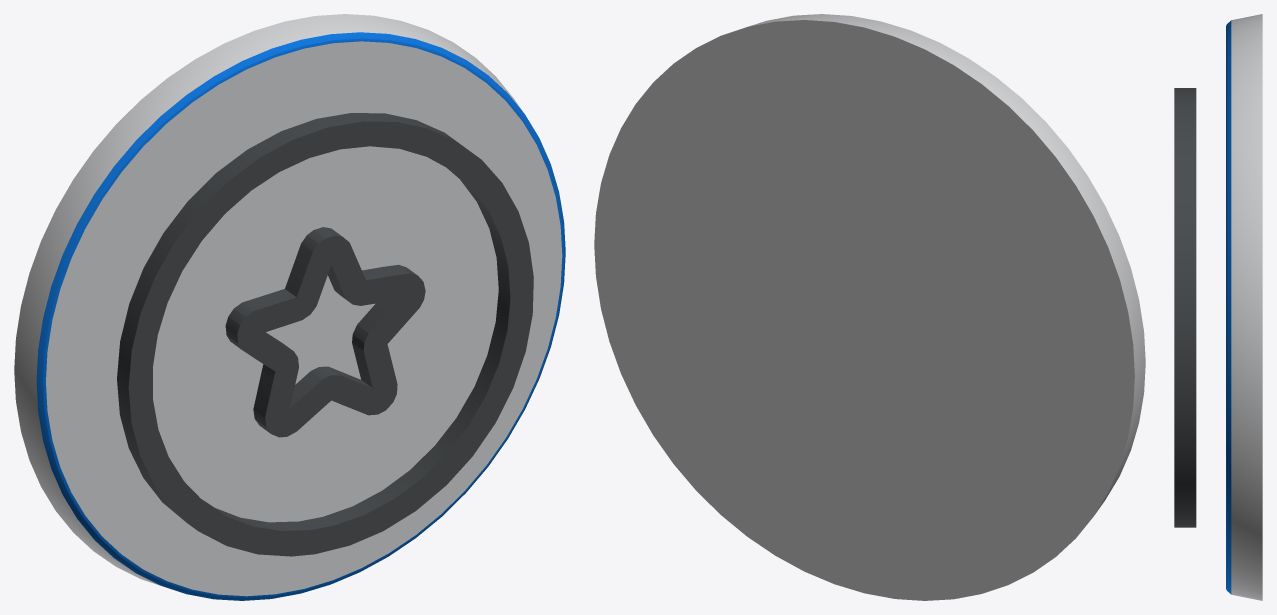
The model's file is object-icon-4ae10f.glb.
3 views of the same model, side by side, from view 1: azimuth 30°, elevation 25°; view 2: azimuth 150°, elevation 25°; view 3: azimuth 270°, elevation 25° (orthographic). The views are drawn at different scales.
Parts seen in each view (by area): view 1: icon; view 2: icon; view 3: icon.
Part boxes in pixels (x1,y1,x2,y2): icon: (14,14,565,600); icon: (594,14,1145,600); icon: (1174,14,1262,600).
Size of the model in its own units: 0.08 by 0.08 by 0.012.
